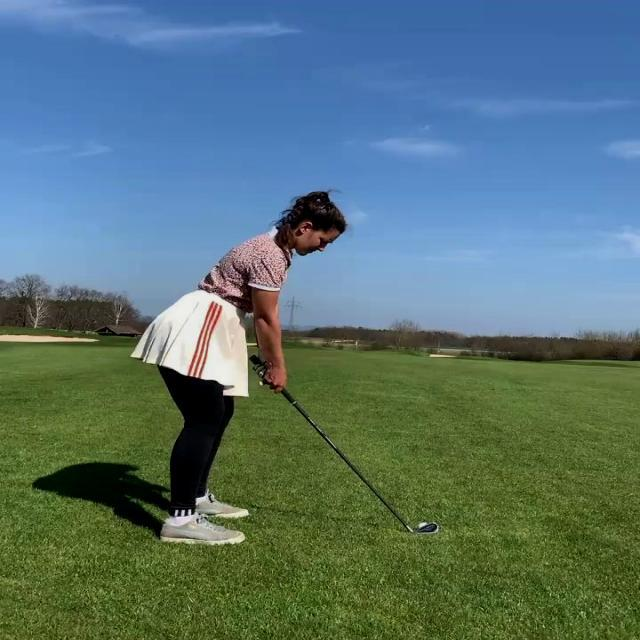golf ball: (419, 522, 428, 527)
golf club-handle: (249, 353, 443, 537)
golf club-head: (417, 522, 440, 533)
